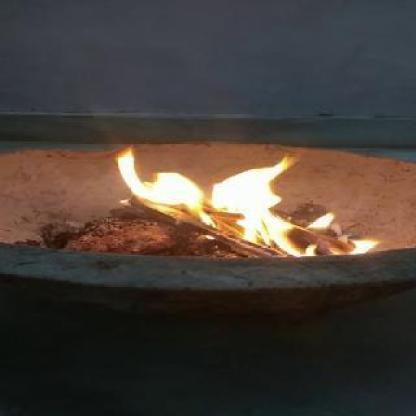Fire: (106, 141, 388, 272)
